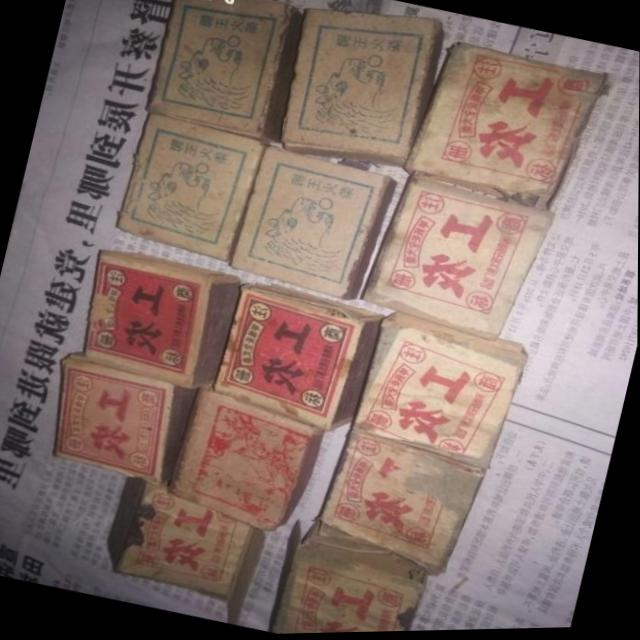box: (399, 41, 603, 208), (359, 172, 551, 345), (353, 314, 526, 474), (229, 144, 402, 302), (208, 285, 383, 430), (316, 432, 488, 578), (285, 12, 439, 166), (77, 250, 244, 390), (166, 390, 324, 533), (149, 0, 300, 146), (114, 483, 269, 624), (119, 116, 267, 261), (267, 518, 435, 635), (51, 350, 194, 485)
